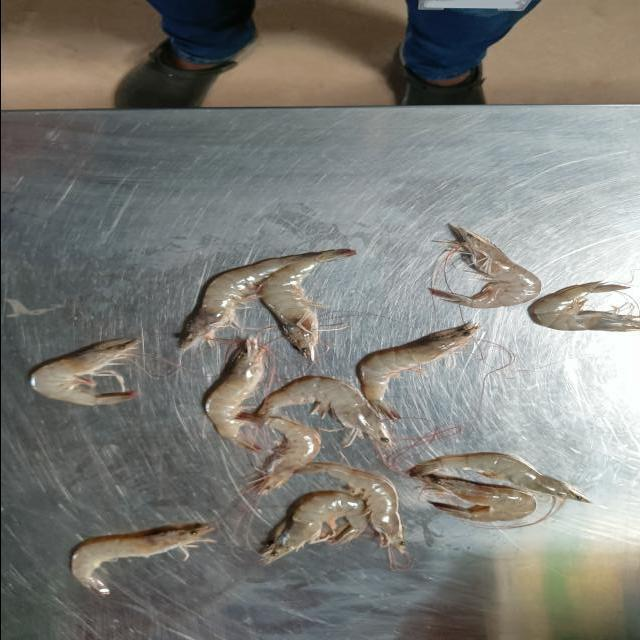shrimp: (179, 254, 318, 348), (357, 324, 481, 420), (259, 249, 354, 360), (69, 524, 213, 595), (295, 462, 405, 554), (255, 376, 392, 449), (430, 226, 540, 309), (408, 452, 589, 502), (259, 490, 368, 564), (29, 339, 138, 405), (204, 339, 264, 451), (527, 282, 640, 331), (419, 474, 536, 521), (253, 416, 319, 495)
